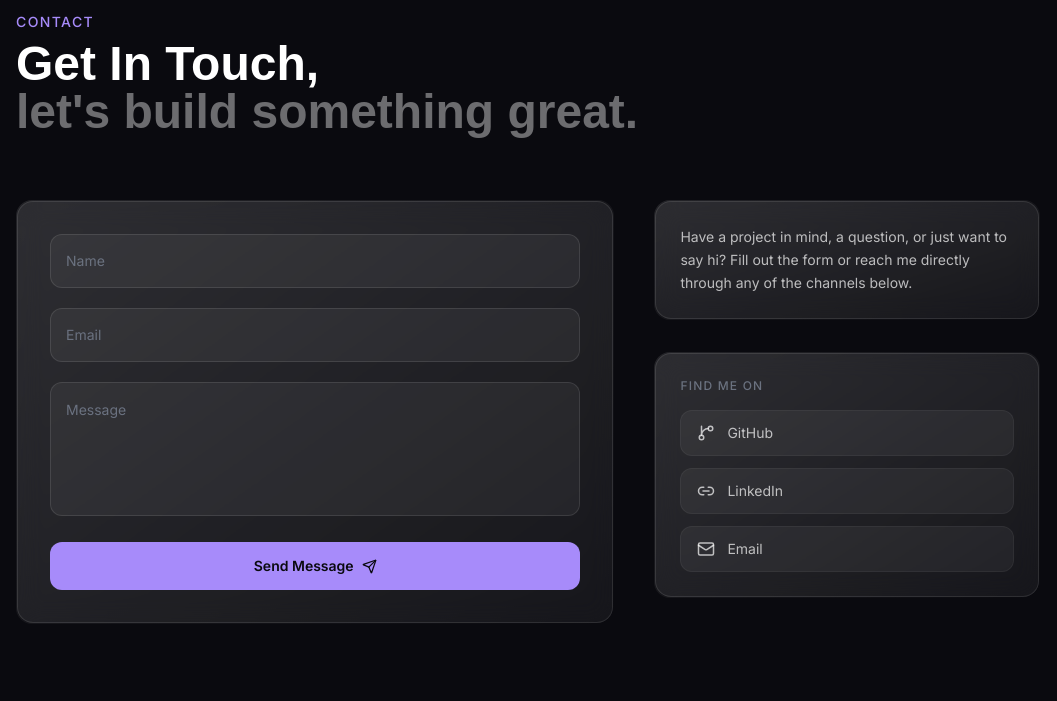
Scenario: Contact › shows inline error for each empty field on invalid submission
Click the button "Send Message".
click(315, 566)  # box [50,542,580,590]
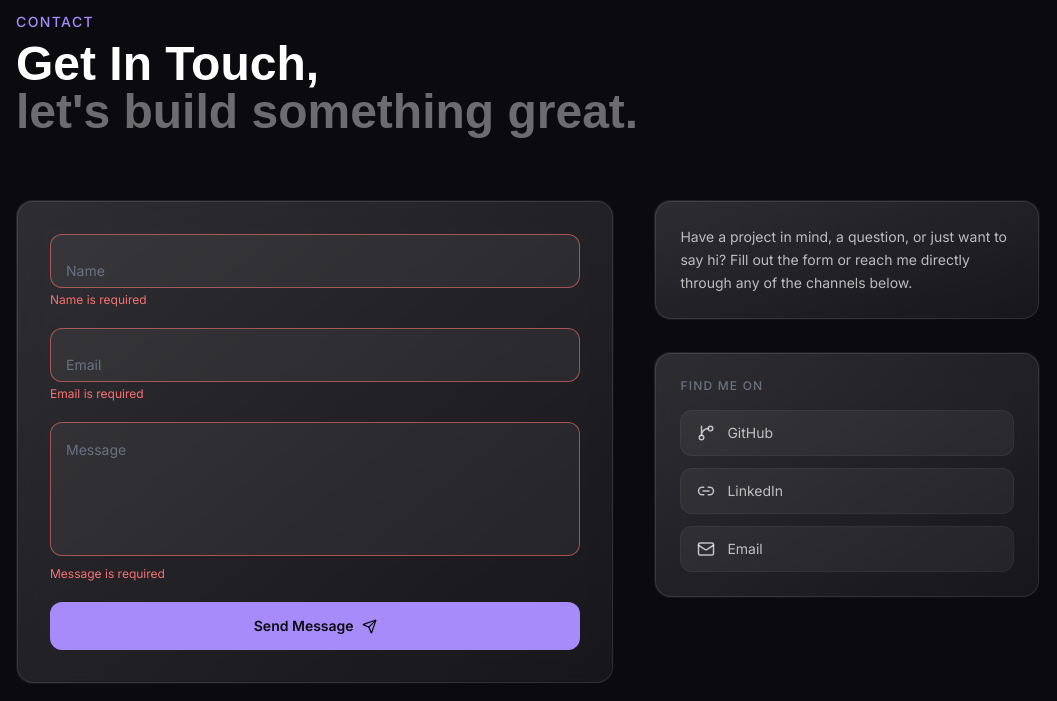
Check: the text "Name is required" is shown, box [50,292,147,307]
Check: the text "Email is required" is shown, box [50,386,144,401]
Check: the text "Message is required" is shown, box [50,566,165,581]
